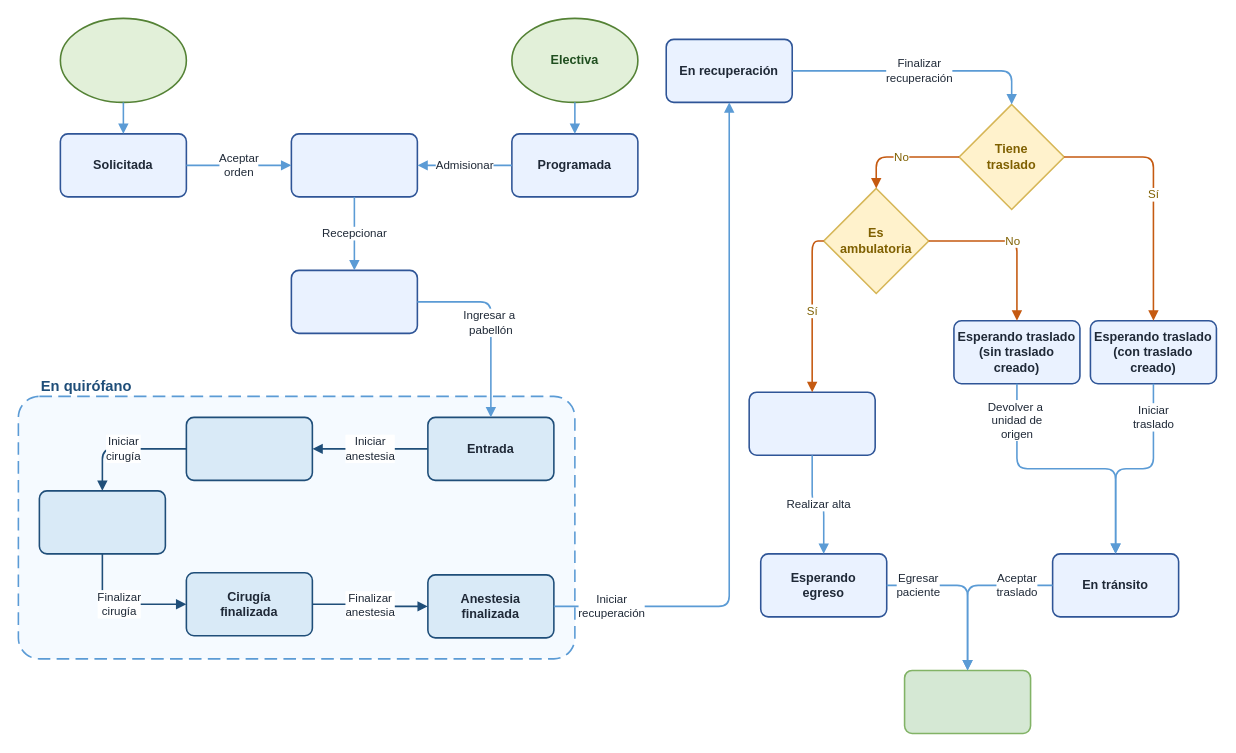
Image size: 1236x753. Some labels were removed from this diagram. Here are the shapes that lost their labels. From the top down, the box of each, then its label:
(59, 17, 187, 103): Urgencia (No Ambulatorio)
(290, 133, 418, 197): En espera
(290, 269, 418, 334): Pre-operatorio
(748, 391, 875, 455): Esperando alta
(185, 416, 313, 481): Anestesia iniciada
(38, 490, 166, 554): Cirugía iniciada
(903, 669, 1031, 734): Finalizada
